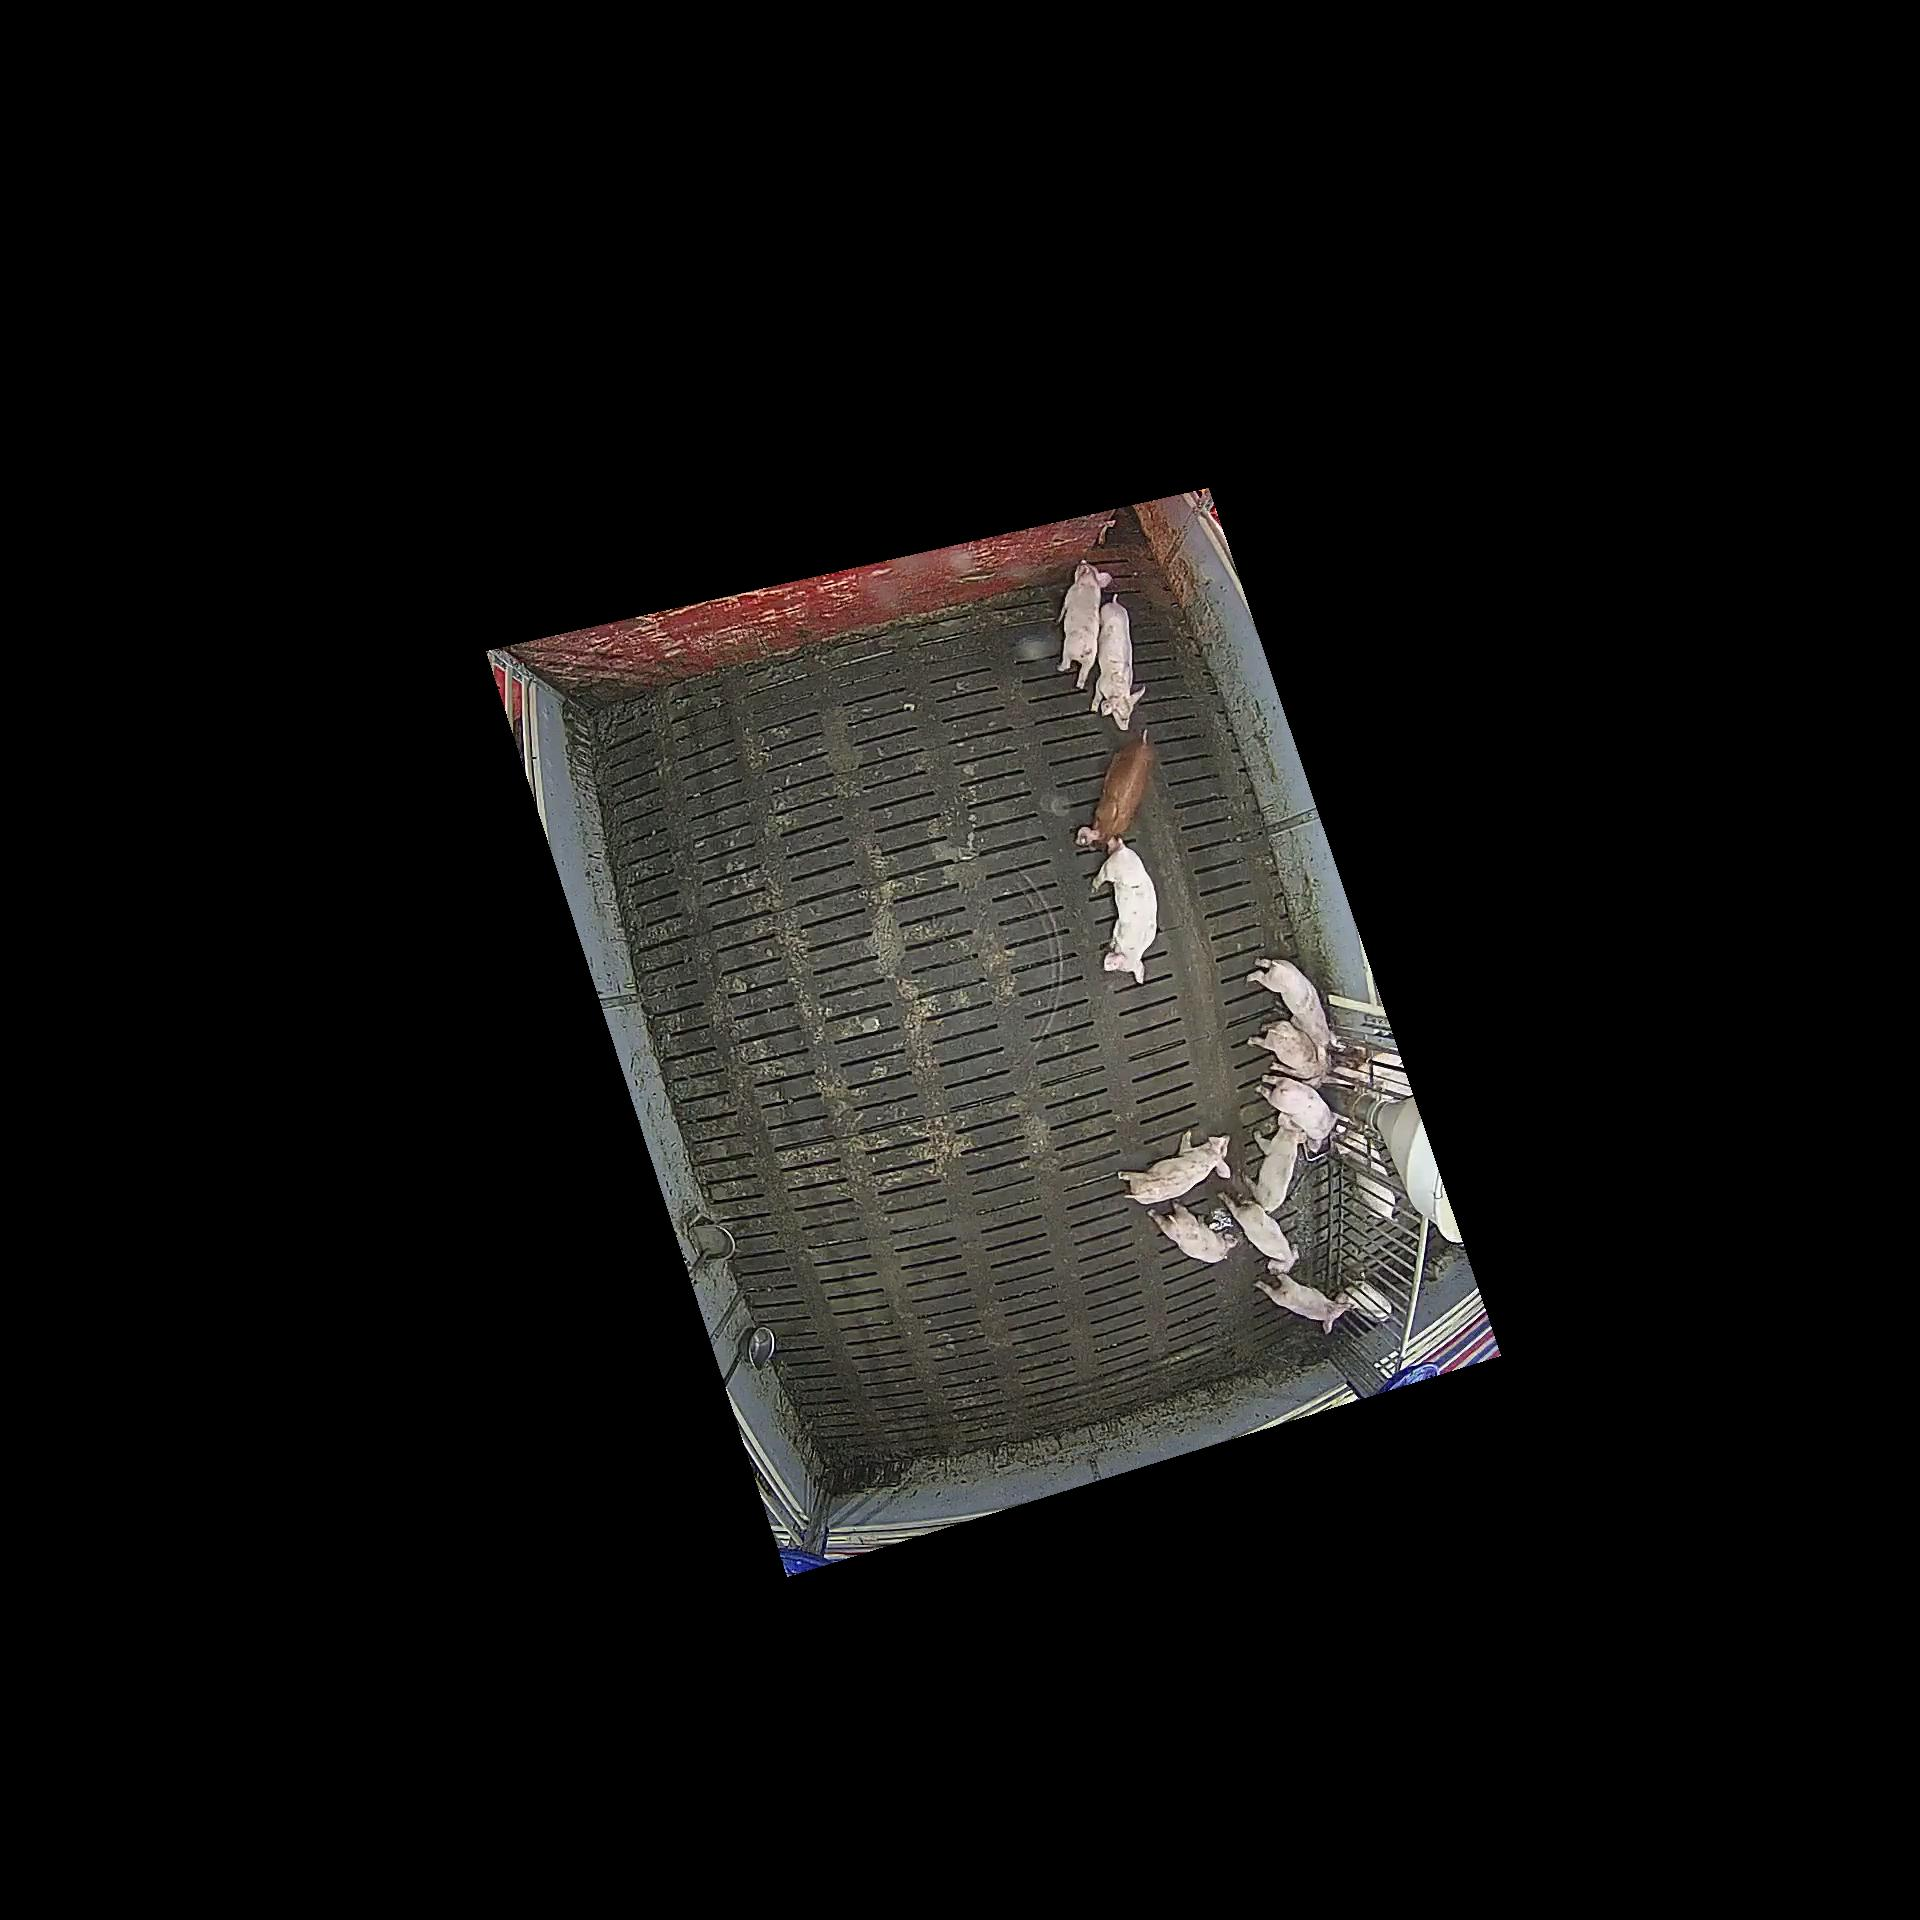pig: (1074, 728, 1152, 855), (1090, 839, 1157, 985), (1247, 956, 1345, 1050), (1118, 1131, 1231, 1206), (1090, 594, 1146, 730), (1057, 559, 1113, 687), (1217, 1192, 1299, 1275), (1241, 1113, 1308, 1213), (1146, 1199, 1240, 1262), (1247, 1022, 1333, 1087), (1255, 1275, 1349, 1335), (1255, 1074, 1336, 1138)
